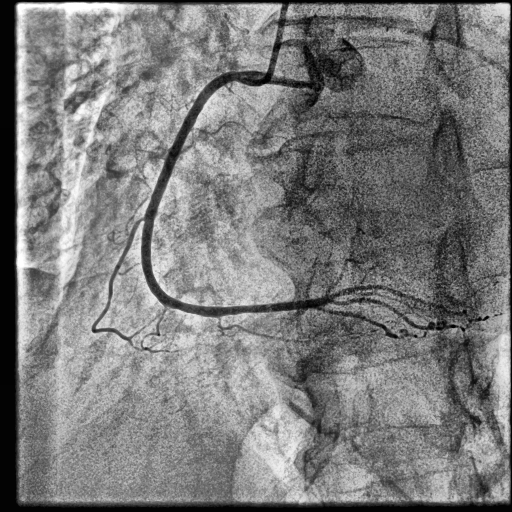rca: (142, 71, 314, 316)
